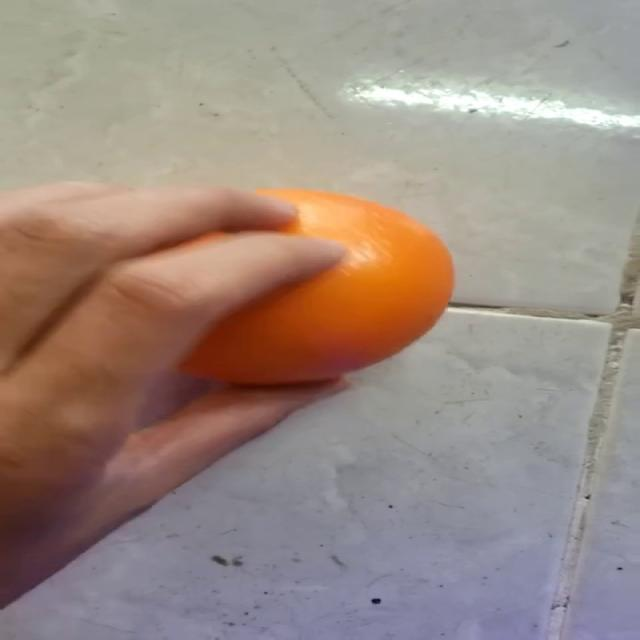Orange: (174, 185, 455, 387)
